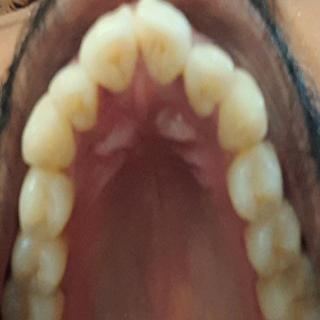UL1BC_decay: (227, 143, 283, 219)
UL1M_healthy: (256, 257, 319, 320)
UL2BC_healthy: (244, 200, 302, 277)
ULCI_decay: (139, 1, 192, 85)
ULC_healthy: (217, 67, 268, 146)
ULLI_decay: (183, 43, 235, 117)
UR1BC_healthy: (18, 167, 73, 237)
UR1M_healthy: (1, 278, 64, 320)
UR2BC_healthy: (11, 236, 66, 293)
URCI_decay: (78, 4, 138, 94)
URC_healthy: (21, 92, 76, 167)
URLI_decay: (48, 61, 98, 131)
